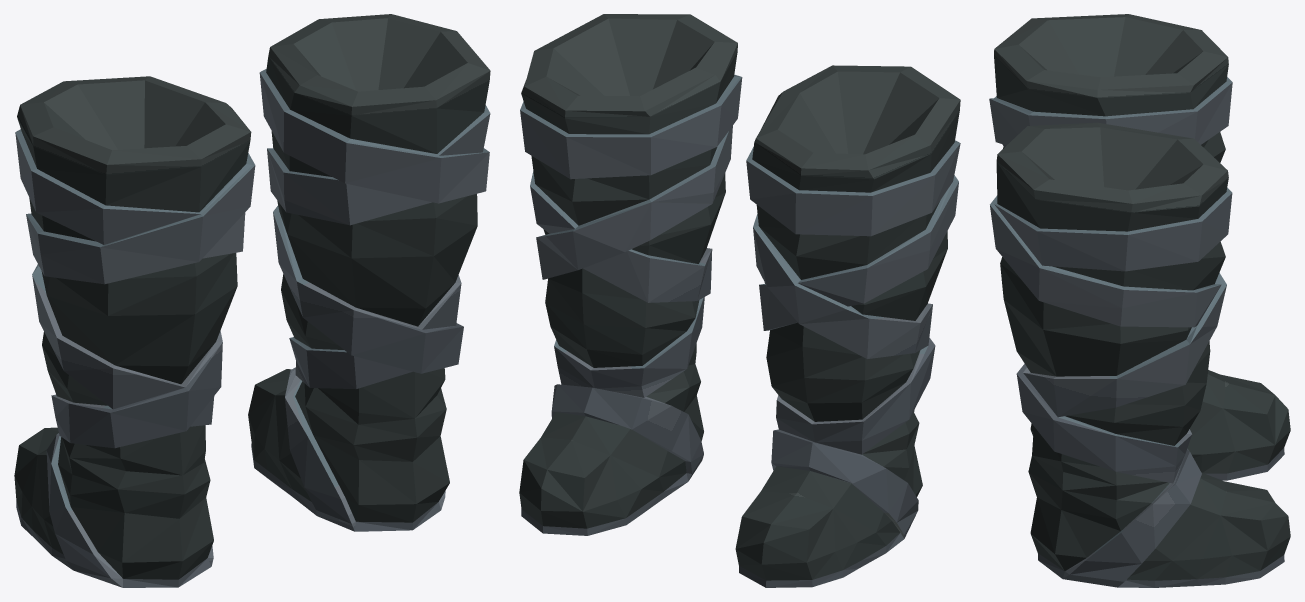
File: CharSkyKid_Feet_AP27GuardBoots.glb
3 renders of one model, left to right at view 1: azimuth 30°, elevation 25°; view 2: azimuth 150°, elevation 25°; view 3: azimuth 270°, elevation 25°, orthographic. The views are drawn at different scales.
Visible parts, largest first — view 1: CharSkyKid_Feet_AP27GuardBoots; view 2: CharSkyKid_Feet_AP27GuardBoots; view 3: CharSkyKid_Feet_AP27GuardBoots.
Part boxes in pixels (x1,y1,x2,y2): CharSkyKid_Feet_AP27GuardBoots: (14, 14, 490, 587); CharSkyKid_Feet_AP27GuardBoots: (519, 14, 960, 587); CharSkyKid_Feet_AP27GuardBoots: (989, 14, 1290, 587).
Size of the model in its own units: 3.32 by 3.3 by 2.19.
Materials: 1 (1 with a texture image).
